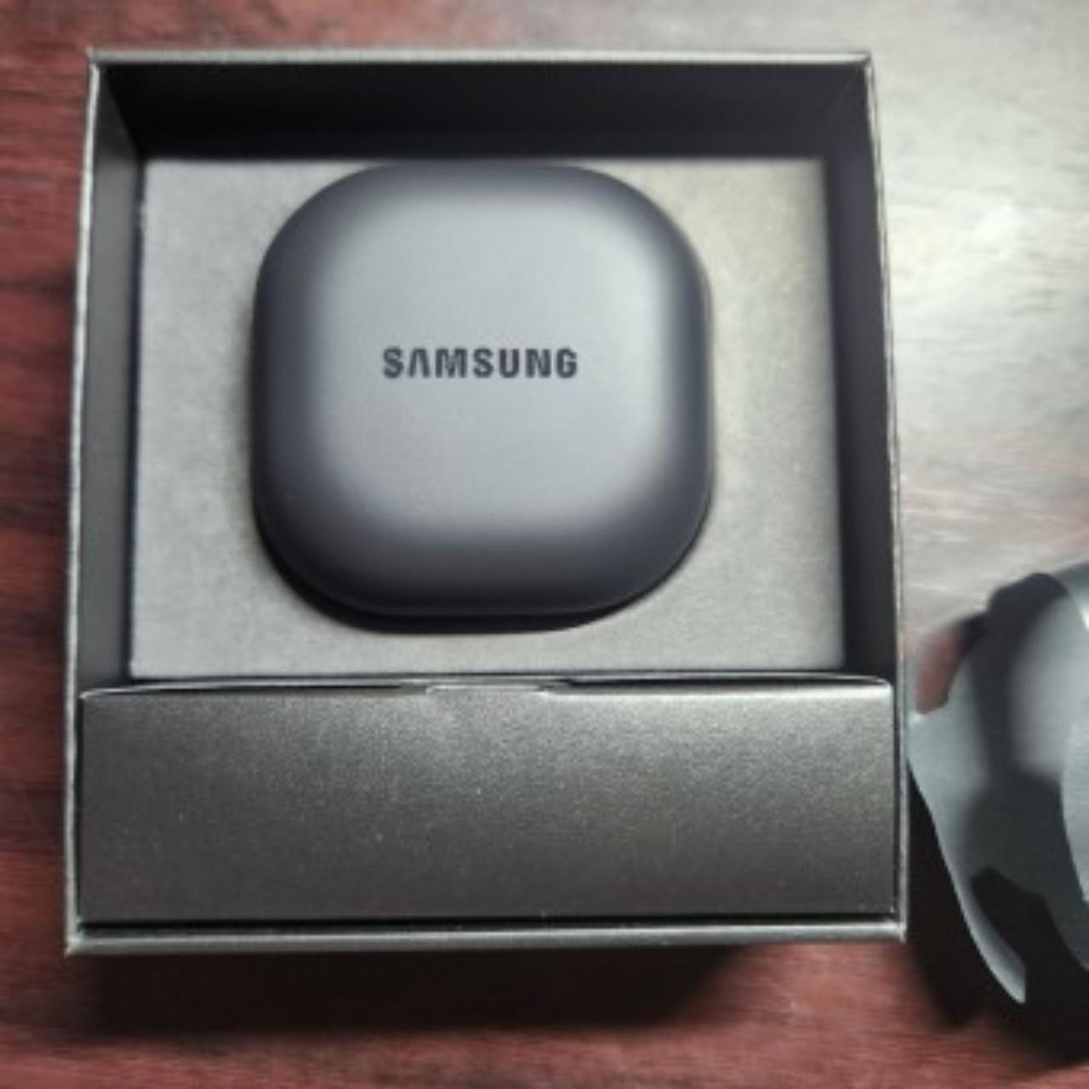Buds: (245, 158, 718, 636)
